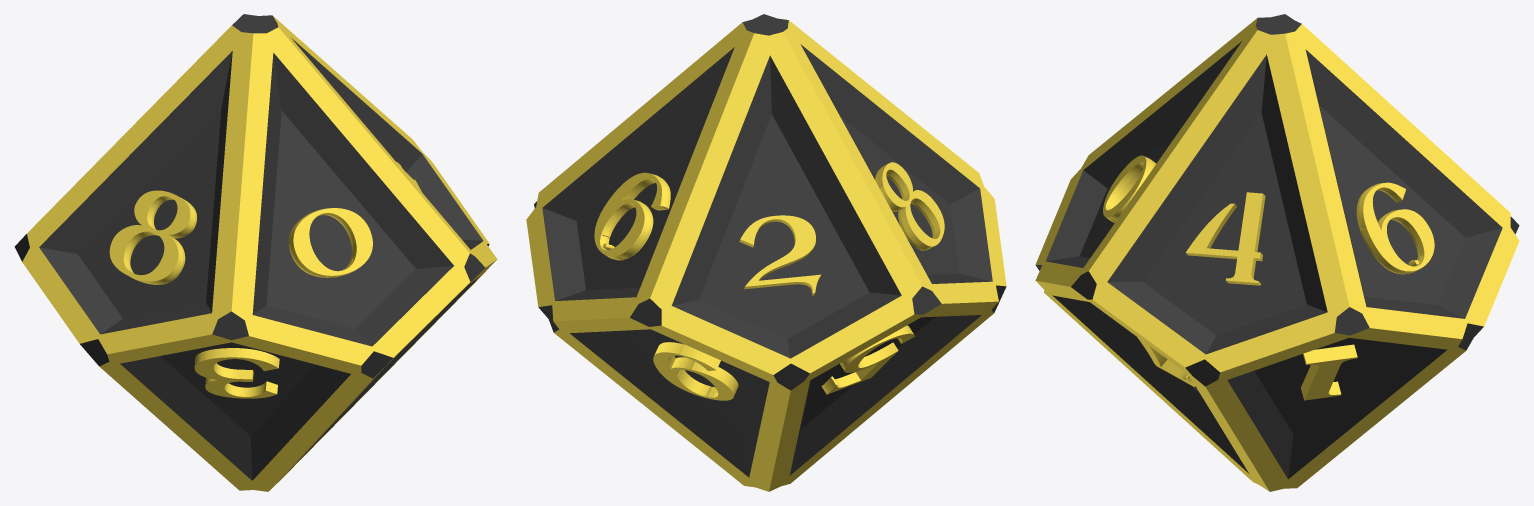
3 views of the same model, side by side, from view 1: azimuth 30°, elevation 25°; view 2: azimuth 150°, elevation 25°; view 3: azimuth 270°, elevation 25° (orthographic).
Visible parts, largest first — view 1: d10, d10_face_0, d10_face_8, d10_face_3, d10_face_4, d10_face_7; view 2: d10, d10_face_2, d10_face_6, d10_face_8, d10_face_9, d10_face_5; view 3: d10, d10_face_4, d10_face_6, d10_face_1, d10_face_0, d10_face_7.
Boxes of the visible parts, box(x1,y1,x2,y2) form: d10: box(14, 14, 489, 480); d10_face_0: box(231, 27, 470, 365); d10_face_8: box(22, 25, 253, 354); d10_face_3: box(99, 334, 372, 491); d10_face_4: box(273, 16, 496, 267); d10_face_7: box(269, 260, 496, 490); d10: box(534, 14, 1006, 477); d10_face_2: box(650, 32, 922, 374); d10_face_6: box(526, 22, 753, 321); d10_face_8: box(783, 20, 1006, 303); d10_face_9: box(553, 317, 790, 491); d10_face_5: box(769, 301, 998, 491); d10: box(1035, 14, 1519, 479); d10_face_4: box(1089, 30, 1349, 372); d10_face_6: box(1285, 24, 1519, 339); d10_face_1: box(1205, 328, 1465, 491); d10_face_0: box(1035, 18, 1257, 286); d10_face_7: box(1036, 280, 1269, 491).
Size of the model in its own units: 1.7 by 1.82 by 1.75.
